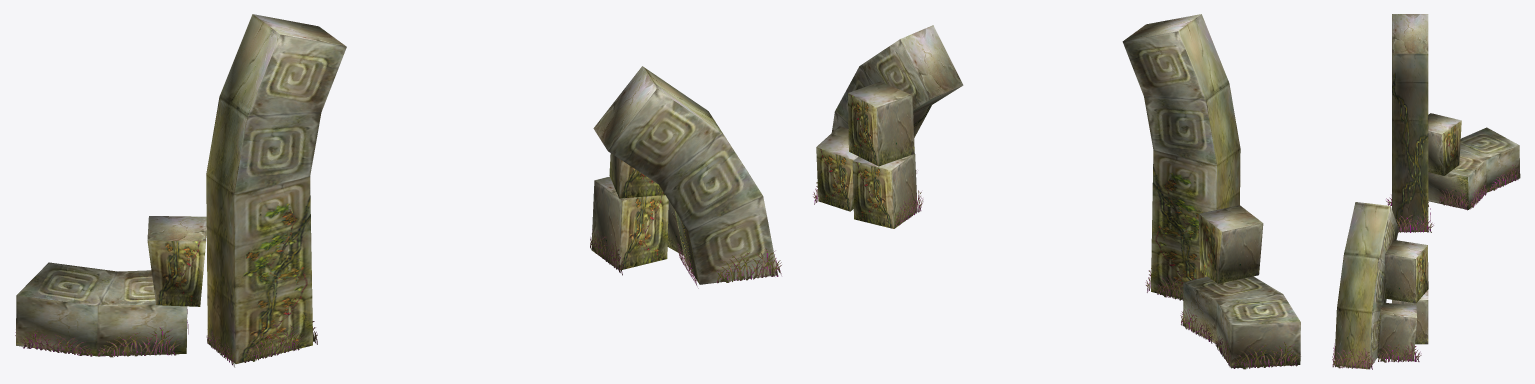
The model's file is a_SWCdoor02.glb.
The picture shows the model from 3 angles, left to right: view 1: azimuth 30°, elevation 25°; view 2: azimuth 150°, elevation 25°; view 3: azimuth 270°, elevation 25°; orthographic projection. The views are drawn at different scales.
Parts seen in each view (by area): view 1: a_SWCdoor02; view 2: a_SWCdoor02; view 3: a_SWCdoor02.
Boxes of the visible parts, x1,y1,x2,y2 form: a_SWCdoor02: (15,14,781,367); a_SWCdoor02: (813,14,1300,369); a_SWCdoor02: (1332,14,1520,369).
Size of the model in its own units: 7.95 by 3.69 by 3.02.
3 materials, 3 textured.
